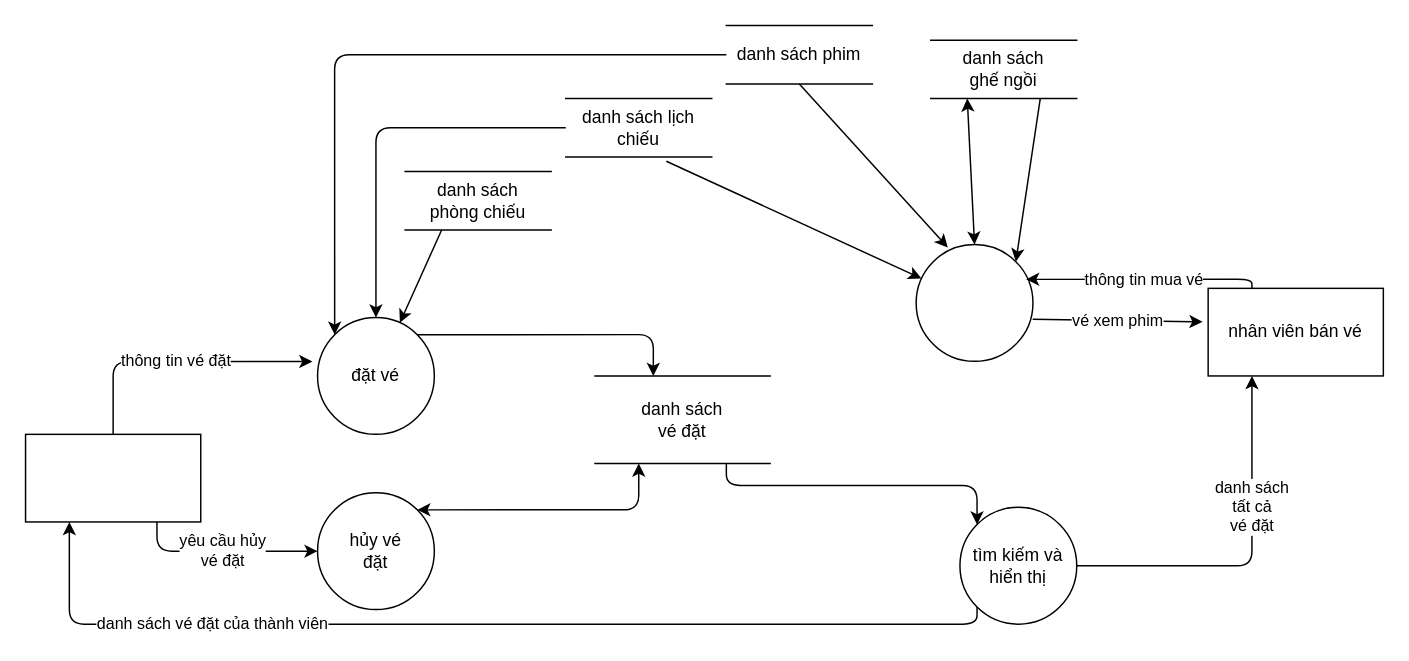
This 1409x661 diagram has some shape labels left out. Each missing label, with the centre of its shape:
in vé: (974,302)
thành viên: (112,477)
